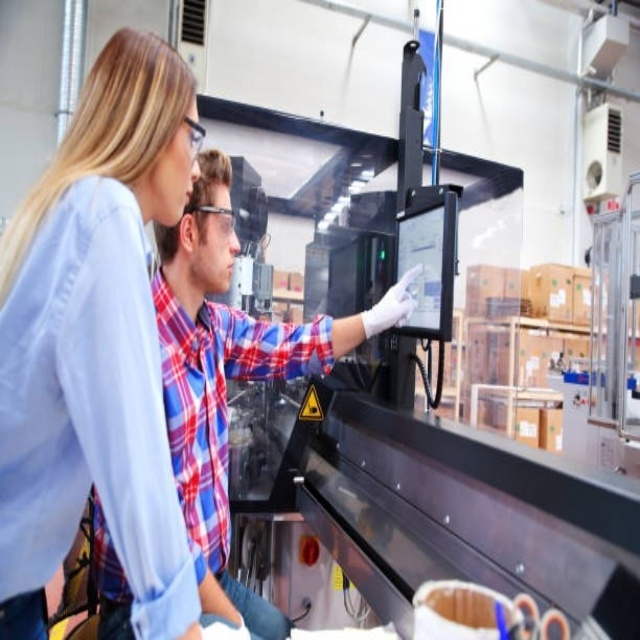Gafas: (190, 206, 237, 233), (183, 115, 206, 155)
Guantes: (360, 264, 423, 340)
Sin_mascara: (165, 179, 196, 226), (214, 251, 238, 292)
